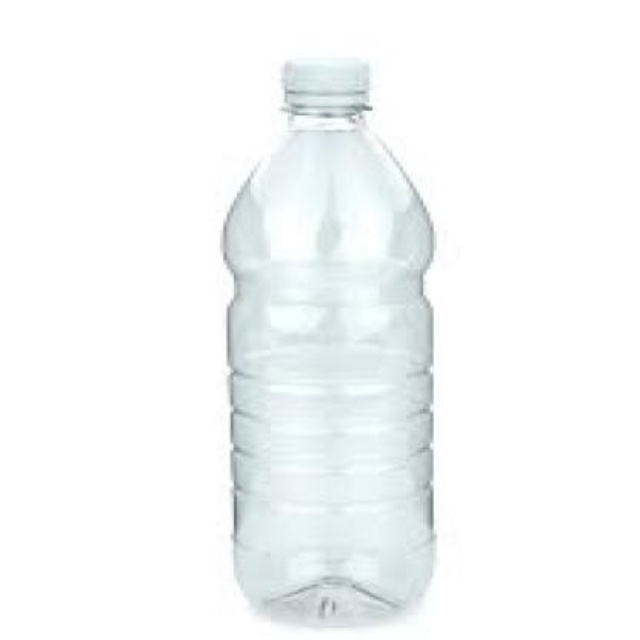trash: (223, 60, 432, 623)
